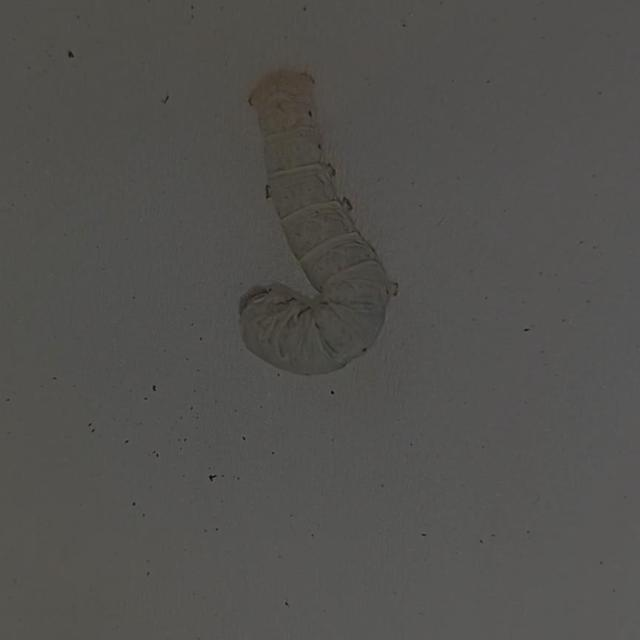Healthy: (210, 37, 404, 392)
